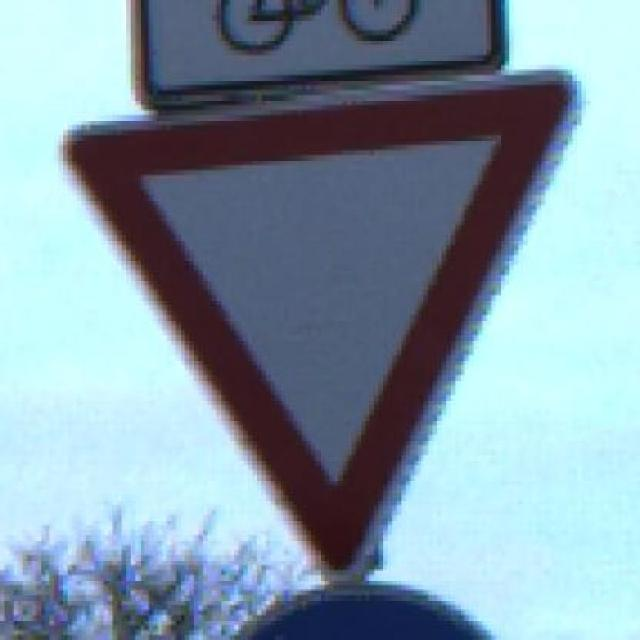Give Way: (32, 65, 618, 606)
